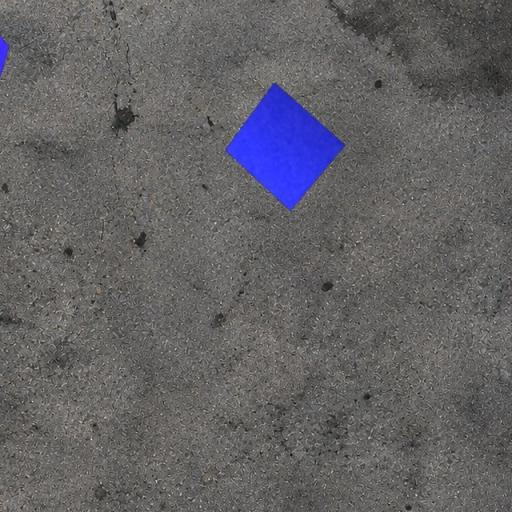BLUE_SQUARE: (225, 82, 346, 212)
